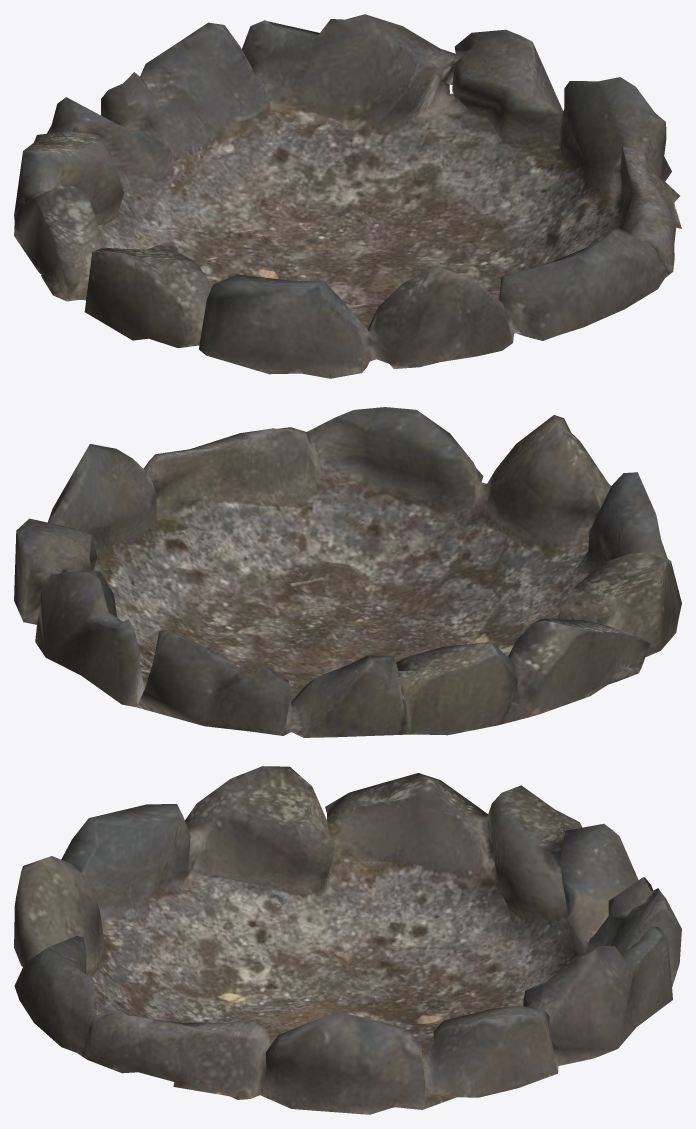
Rendered from stone_fire_pit.glb.
3 renders of one model, top to bottom at view 1: azimuth 30°, elevation 25°; view 2: azimuth 150°, elevation 25°; view 3: azimuth 270°, elevation 25°, orthographic.
Visible parts, largest first — view 1: stone_fire_pit; view 2: stone_fire_pit; view 3: stone_fire_pit.
Boxes of the visible parts, left/top/right/bottom form: stone_fire_pit: left=14, top=14, right=681, bottom=378; stone_fire_pit: left=14, top=407, right=681, bottom=737; stone_fire_pit: left=14, top=766, right=681, bottom=1114.
Bounding box in the file's own units: 1.45 × 0.3883 × 1.43.
Materials: 1 (1 with a texture image).
